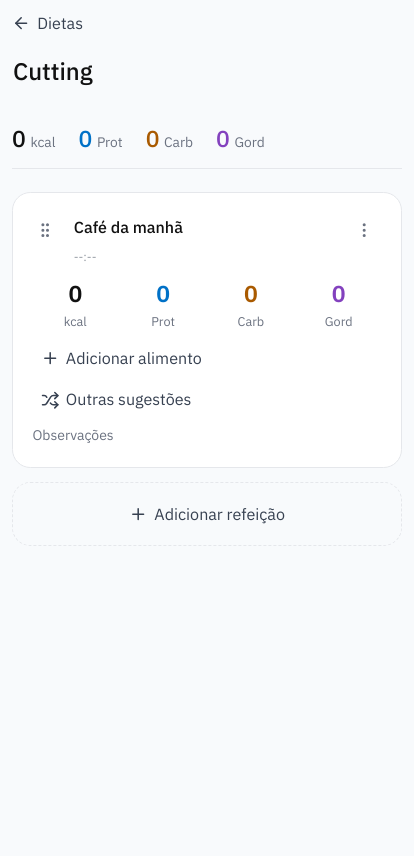
Test case: DietEditor › adds a meal
The width and height of the screenshot is (414, 856).
Click the button "Adicionar refeição". click: (207, 514)
box: [12,482,402,546]
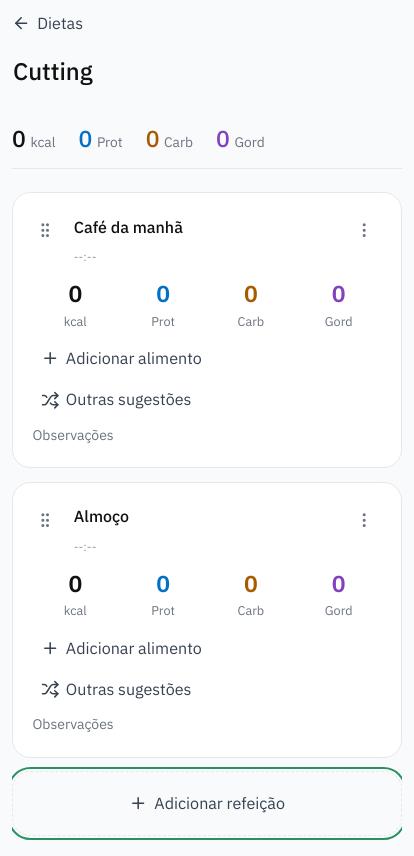
Check: the number of fields named "Nome da refeição" is 2, box [67,212,343,242]; [67,501,343,531]
